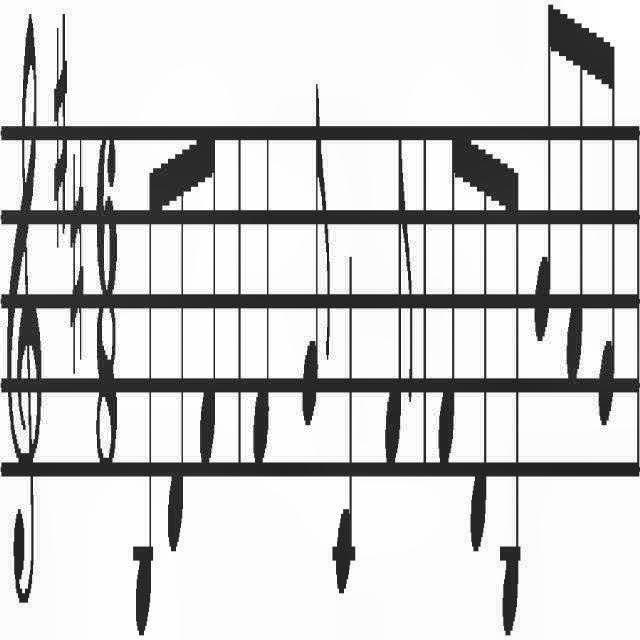Bass-clef: (0, 0, 48, 640)
Diez: (66, 132, 85, 400), (49, 28, 71, 228)
Eighth-note: (372, 96, 416, 538), (295, 52, 333, 464), (495, 131, 525, 640), (128, 95, 155, 640), (466, 71, 492, 616), (160, 116, 188, 584), (561, 0, 590, 424), (190, 92, 218, 504), (432, 81, 460, 488), (595, 0, 621, 424), (526, 1, 554, 343)
Quarter-note: (248, 99, 272, 527), (335, 232, 357, 600)
